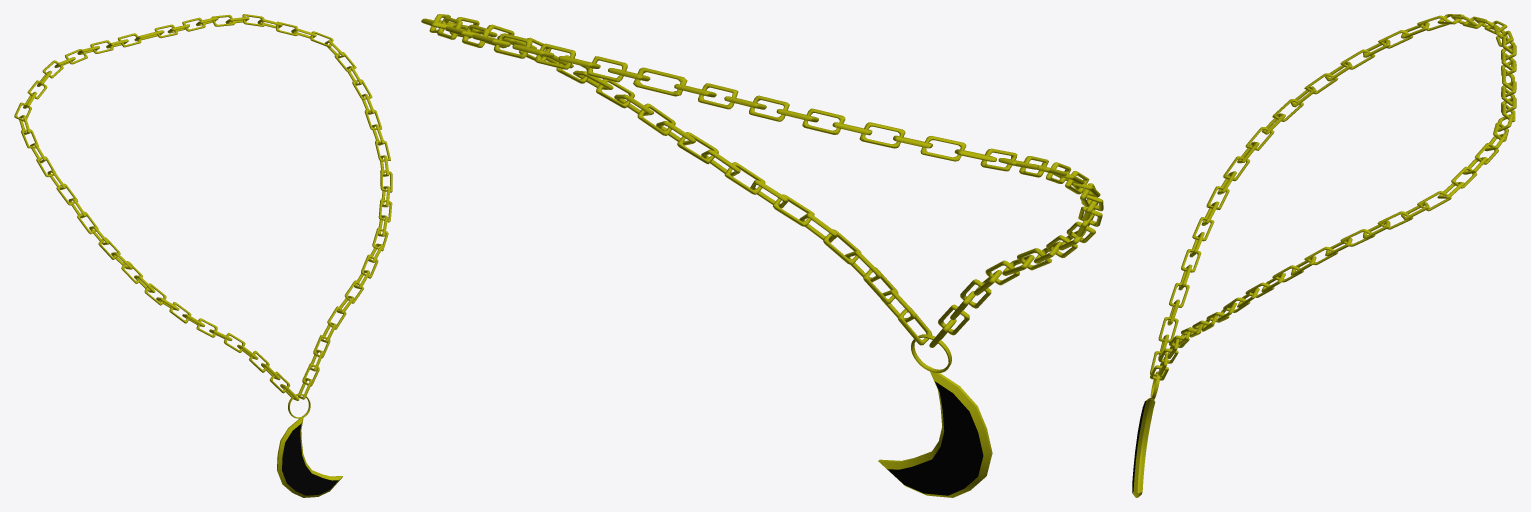
The model's file is tuki_n1.fbx.
3 views of the same model, side by side, from view 1: azimuth 30°, elevation 25°; view 2: azimuth 150°, elevation 25°; view 3: azimuth 270°, elevation 25° (orthographic). The views are drawn at different scales.
Parts seen in each view (by area): view 1: neltukuresu___; view 2: neltukuresu___; view 3: neltukuresu___.
Boxes of the visible parts, x1,y1,x2,y2 form: neltukuresu___: [14, 14, 392, 497]; neltukuresu___: [421, 14, 1103, 497]; neltukuresu___: [1132, 14, 1516, 497].
Bounding box in the file's own units: 11.8 × 12.06 × 10.17.
